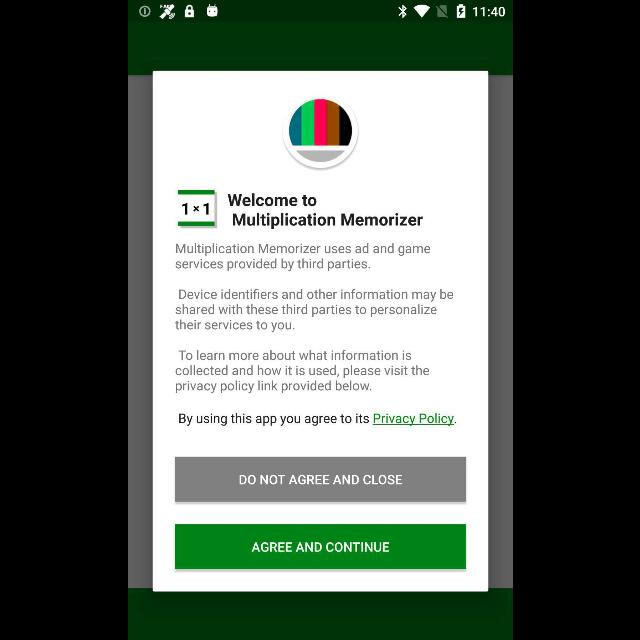image: (282, 96, 358, 170), (178, 190, 216, 228)
panel: (152, 70, 488, 592)
text: (175, 289, 453, 333), (175, 350, 429, 394), (174, 244, 430, 272), (226, 193, 422, 229), (178, 414, 456, 426)
textbutton: (174, 524, 466, 570), (174, 456, 466, 502)
uppertaskbar: (128, 1, 512, 23)
